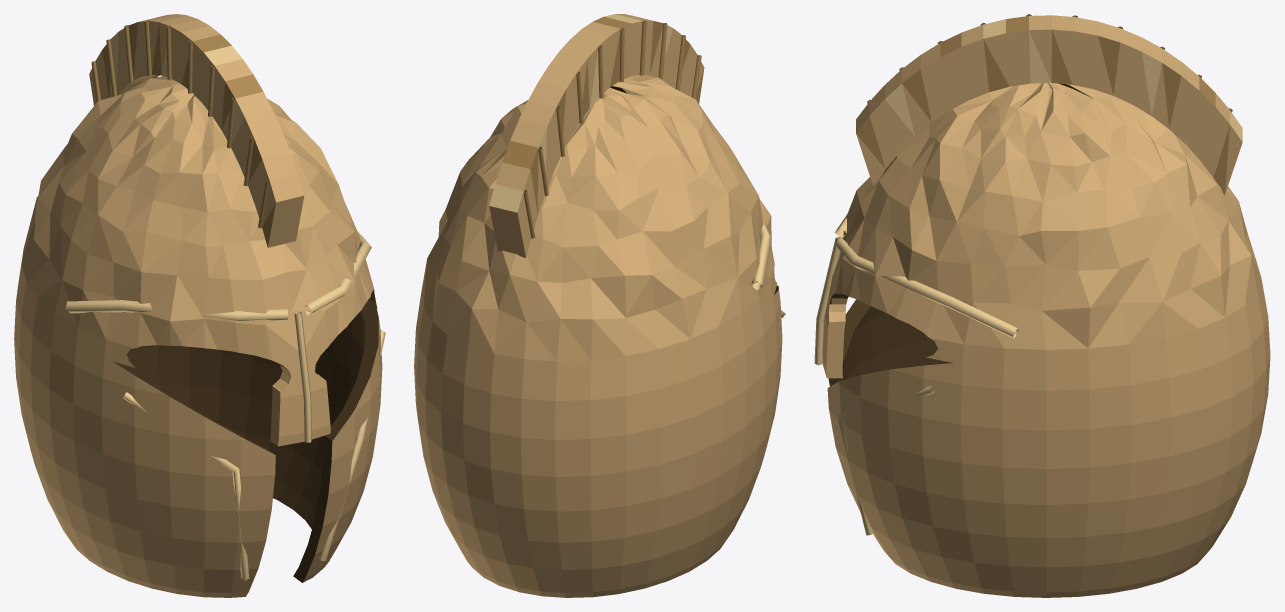
The model's file is ridge.glb.
3 views of the same model, side by side, from view 1: azimuth 30°, elevation 25°; view 2: azimuth 150°, elevation 25°; view 3: azimuth 270°, elevation 25° (orthographic). The views are drawn at different scales.
Visible parts, largest first — view 1: Hollow helmet shell.004, Radial fan crest.003, Sculpted brow.008, Nasal spine.004, Sculpted brow.009, Cheek ridge.008, Cheek ridge.009; view 2: Hollow helmet shell.004, Radial fan crest.003, Sculpted brow.008; view 3: Hollow helmet shell.004, Radial fan crest.003, Sculpted brow.009, Nasal spine.004, Cheek ridge.009.
Boxes of the visible parts, <box> form: Hollow helmet shell.004: <box>14,76,382,597</box>; Radial fan crest.003: <box>89,14,304,247</box>; Sculpted brow.008: <box>65,300,288,321</box>; Nasal spine.004: <box>294,312,311,442</box>; Sculpted brow.009: <box>304,231,371,315</box>; Cheek ridge.008: <box>123,392,249,580</box>; Cheek ridge.009: <box>319,330,385,560</box>; Hollow helmet shell.004: <box>414,75,782,597</box>; Radial fan crest.003: <box>489,14,704,257</box>; Sculpted brow.008: <box>751,221,771,290</box>; Hollow helmet shell.004: <box>822,83,1270,597</box>; Radial fan crest.003: <box>856,15,1242,195</box>; Sculpted brow.009: <box>834,238,1018,338</box>; Nasal spine.004: <box>814,236,843,365</box>; Cheek ridge.009: <box>837,385,934,535</box>.
Size of the model in its own units: 1.16 by 1.87 by 1.49.
